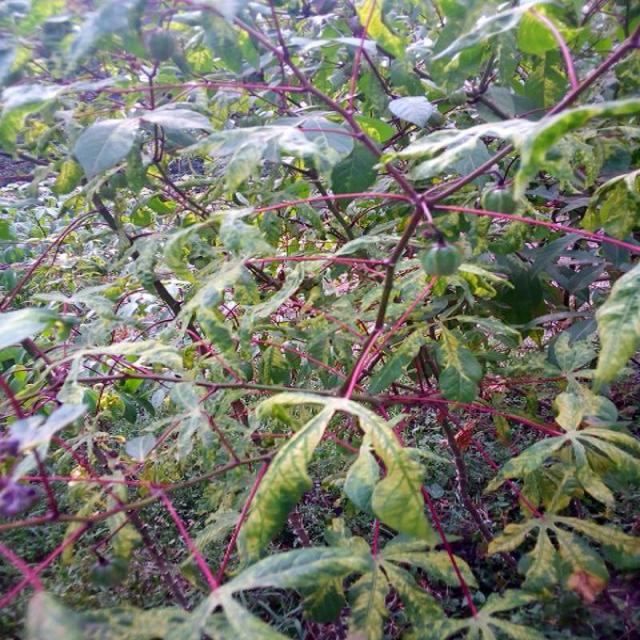cassava leaf: (2, 0, 640, 638), (236, 389, 442, 566)
